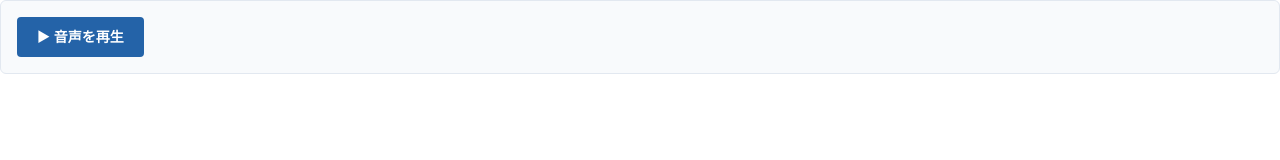
Test: ListeningPlayer: 聞き直し › 模試(聞き直せない設定)では、聞き終えたら再生済みになる
Click the button "▶ 音声を再生". click: (80, 37)
box: 17,17 -> 144,57
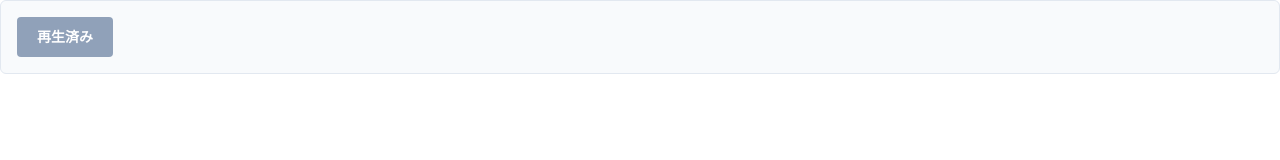
Expected: the button "再生済み" is disabled, 17,17 -> 113,57
